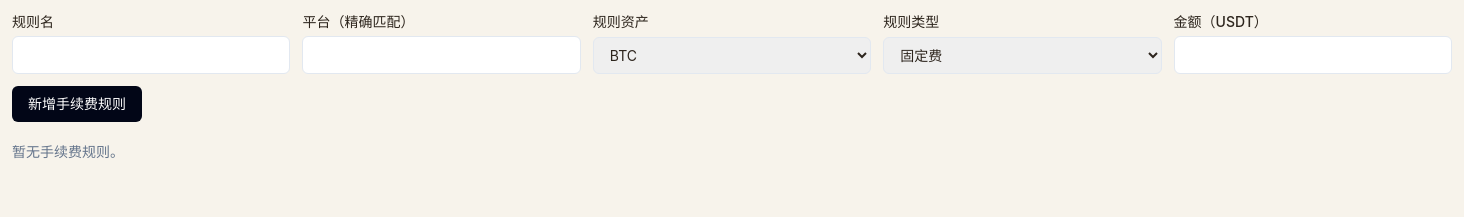
Scenario: FeeRuleManager › fails closed after three fee-rule ID collisions
This screenshot has width=1464, height=217.
Type "Desk fixed" into the field labelled "规则名" at (151, 55), box 12,36 -> 290,74
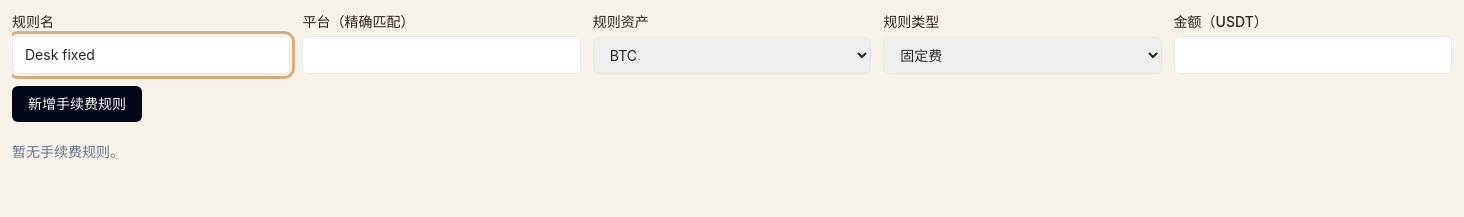
Type "Desk" into the field labelled "平台（精确匹配）" at (442, 55), box 302,36 -> 581,74
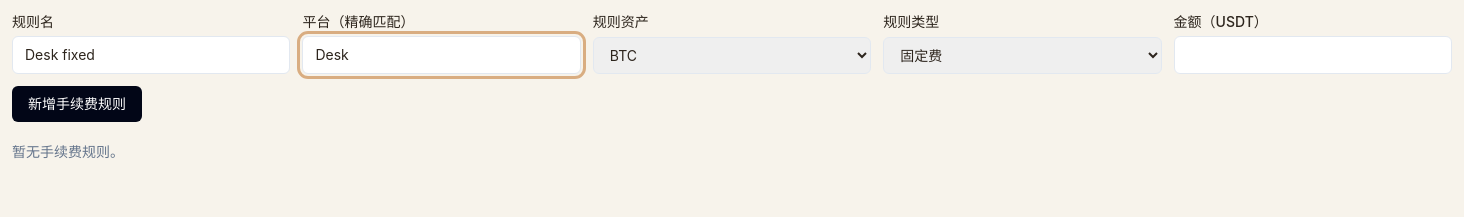
Type "1" into the field labelled "金额（USDT）" at (1313, 55), box 1174,36 -> 1452,74
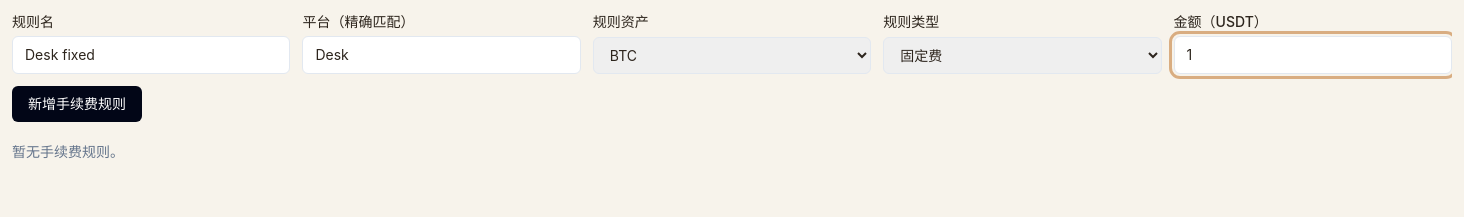
Click the button "新增手续费规则" at (77, 104), box 12,86 -> 142,122
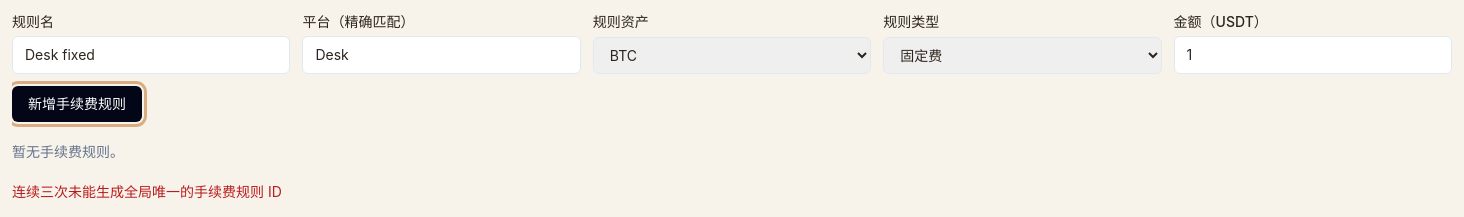
Expected: the text "连续三次未能生成全局唯一的手续费规则 ID" is shown, 12,183 -> 282,200
